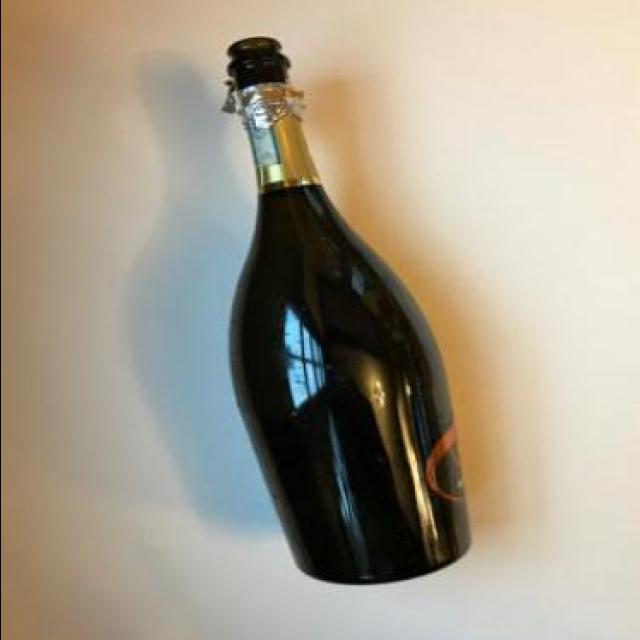kaca: (224, 36, 468, 586)
